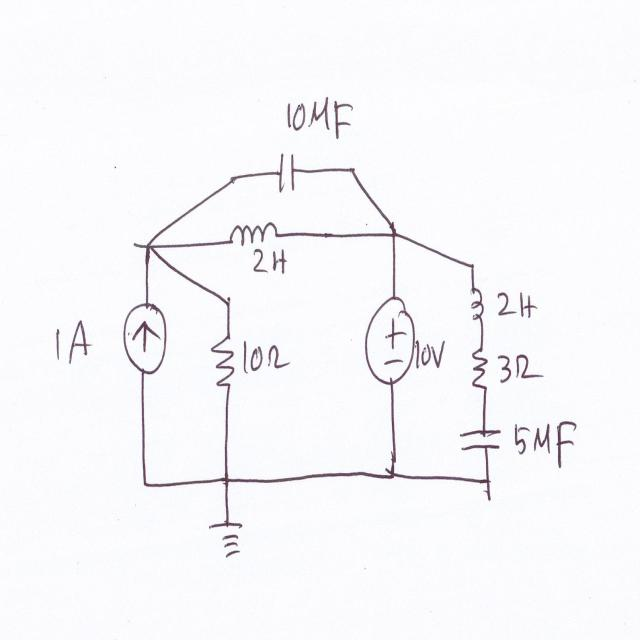capacitor: (457, 418, 502, 461), (272, 150, 302, 200)
current_source: (120, 298, 170, 376)
ground: (201, 517, 253, 568)
inductor: (224, 210, 280, 252), (467, 281, 487, 329)
resistor: (211, 325, 238, 402), (470, 334, 492, 398)
voltage_source: (361, 289, 415, 397)
